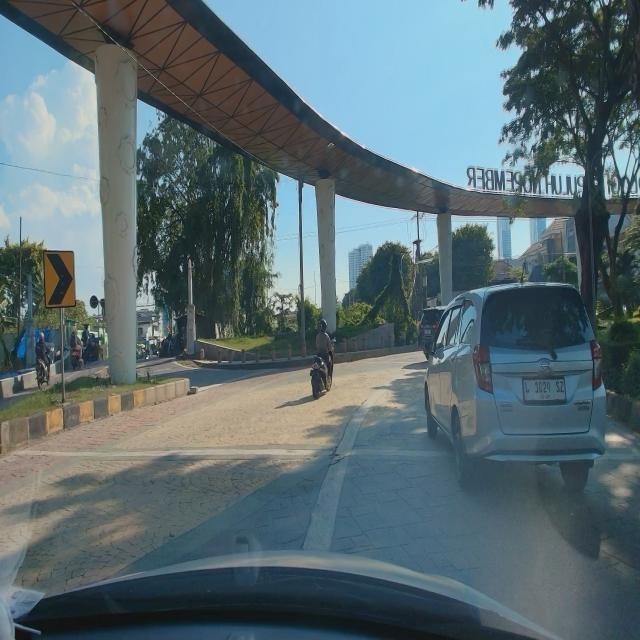car: (424, 277, 610, 496)
license-plate: (520, 369, 570, 411)
